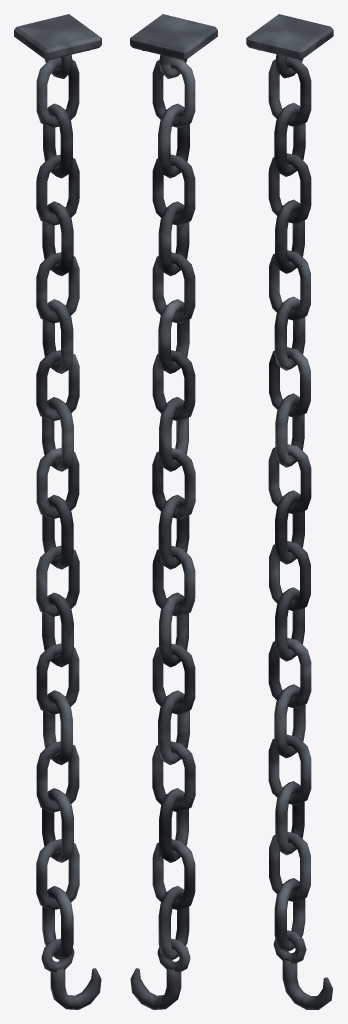
The model's file is ENV_Chain.fbx.
3 renders of one model, left to right at view 1: azimuth 30°, elevation 25°; view 2: azimuth 150°, elevation 25°; view 3: azimuth 330°, elevation 25°, orthographic.
Visible parts, largest first — view 1: ENV_Chain; view 2: ENV_Chain; view 3: ENV_Chain.
Part boxes in pixels (box(x1,y1,x2,y2)): ENV_Chain: box(14, 14, 101, 1009); ENV_Chain: box(130, 14, 217, 1009); ENV_Chain: box(246, 14, 333, 1009).
Size of the model in its own units: 0.2221 by 2.93 by 0.18.
